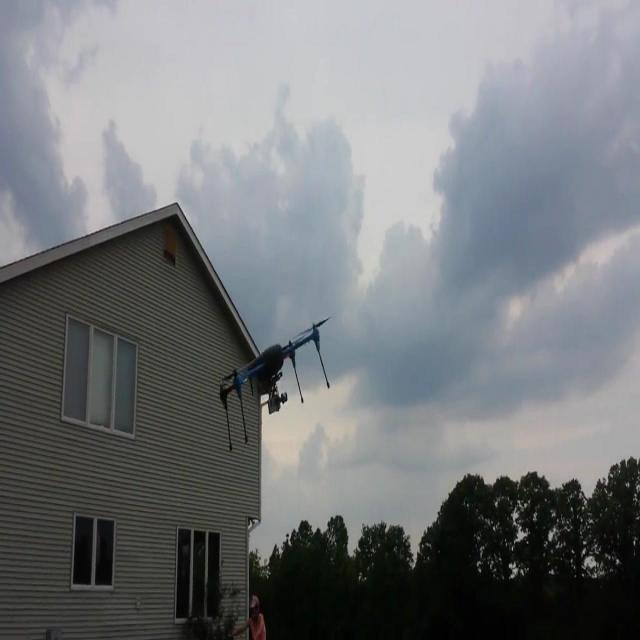UAV: (220, 316, 332, 452)
